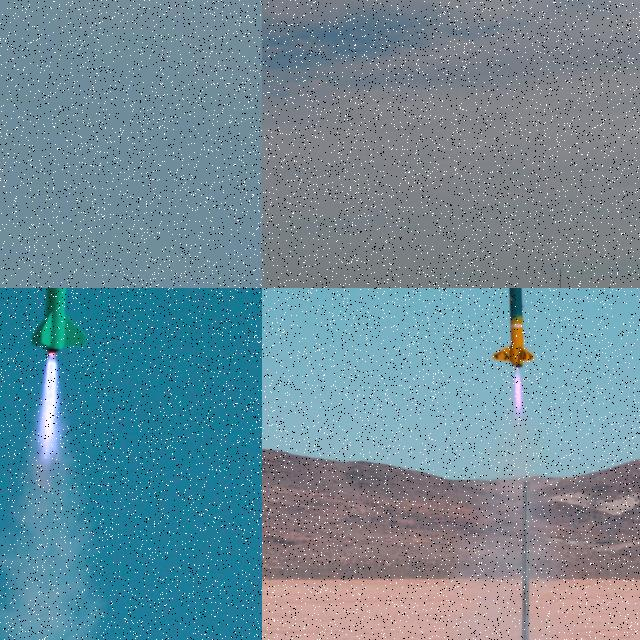Rocket: (29, 288, 89, 354), (492, 288, 535, 369)
